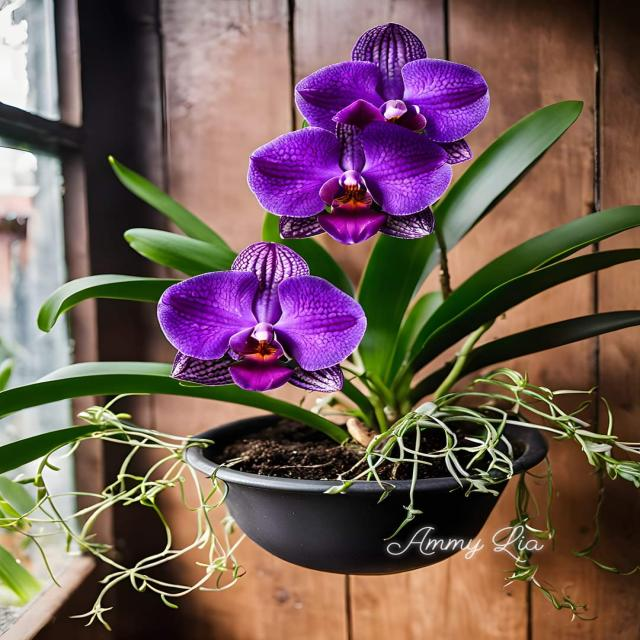flower: (157, 243, 366, 391), (248, 100, 451, 245), (295, 23, 489, 164)
leaf: (399, 207, 639, 371), (411, 249, 639, 372), (436, 100, 581, 243), (459, 311, 639, 378), (359, 231, 435, 383), (114, 159, 225, 250), (160, 271, 260, 361), (1, 373, 166, 417), (38, 278, 167, 331), (1, 424, 124, 473), (124, 229, 235, 276), (287, 238, 356, 299), (0, 546, 39, 601), (1, 475, 34, 515), (412, 369, 448, 399)
pot: (169, 396, 556, 582)
root: (25, 395, 188, 607), (352, 393, 547, 554), (106, 537, 203, 587), (491, 371, 547, 409)
